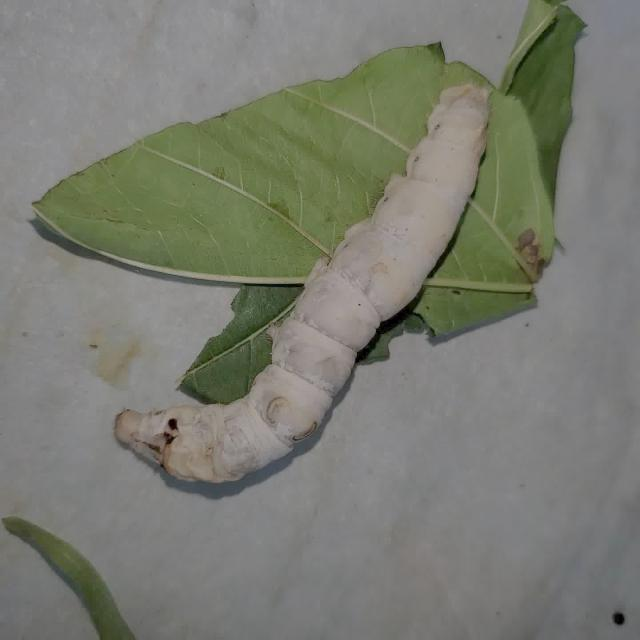Grasserie: (99, 73, 514, 500)
